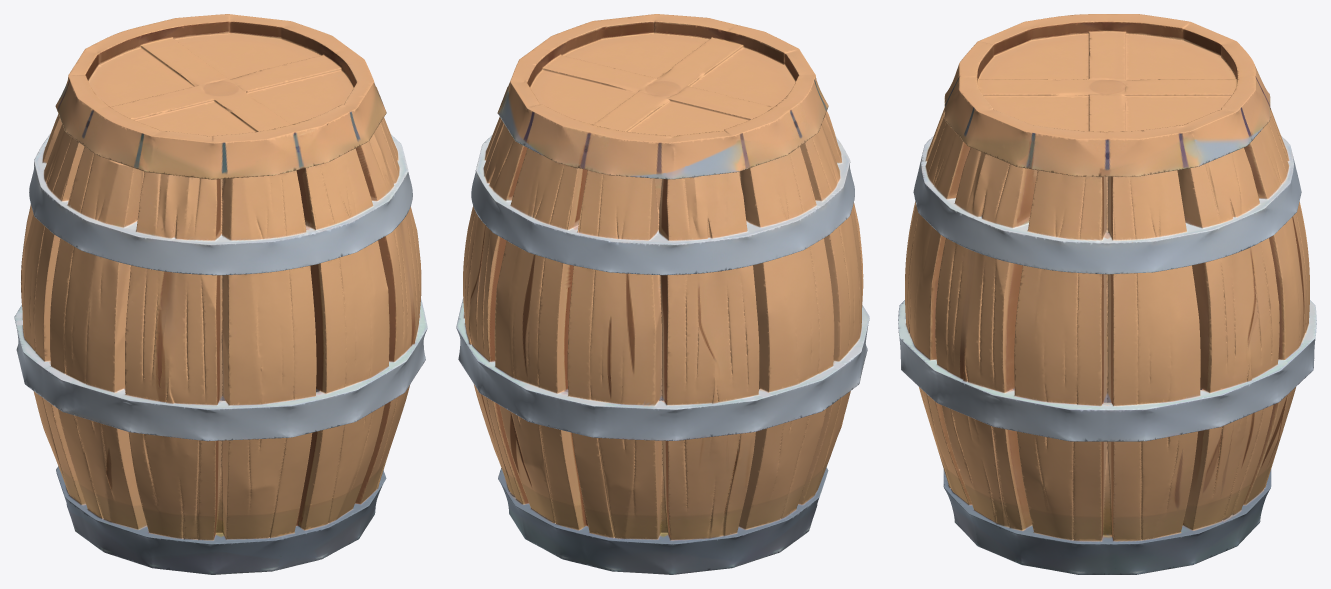
Rendered from Model_Barrel.fbx.
3 renders of one model, left to right at view 1: azimuth 30°, elevation 25°; view 2: azimuth 150°, elevation 25°; view 3: azimuth 270°, elevation 25°, orthographic.
Visible parts, largest first — view 1: Mesh_0; view 2: Mesh_0; view 3: Mesh_0.
Part boxes in pixels (x1=…): Mesh_0: x1=14, y1=14, x2=427, y2=574; Mesh_0: x1=456, y1=14, x2=869, y2=574; Mesh_0: x1=898, y1=14, x2=1316, y2=574.
Bounding box in the file's own units: 1.66 × 1.9 × 1.66.
1 material, 1 textured.
